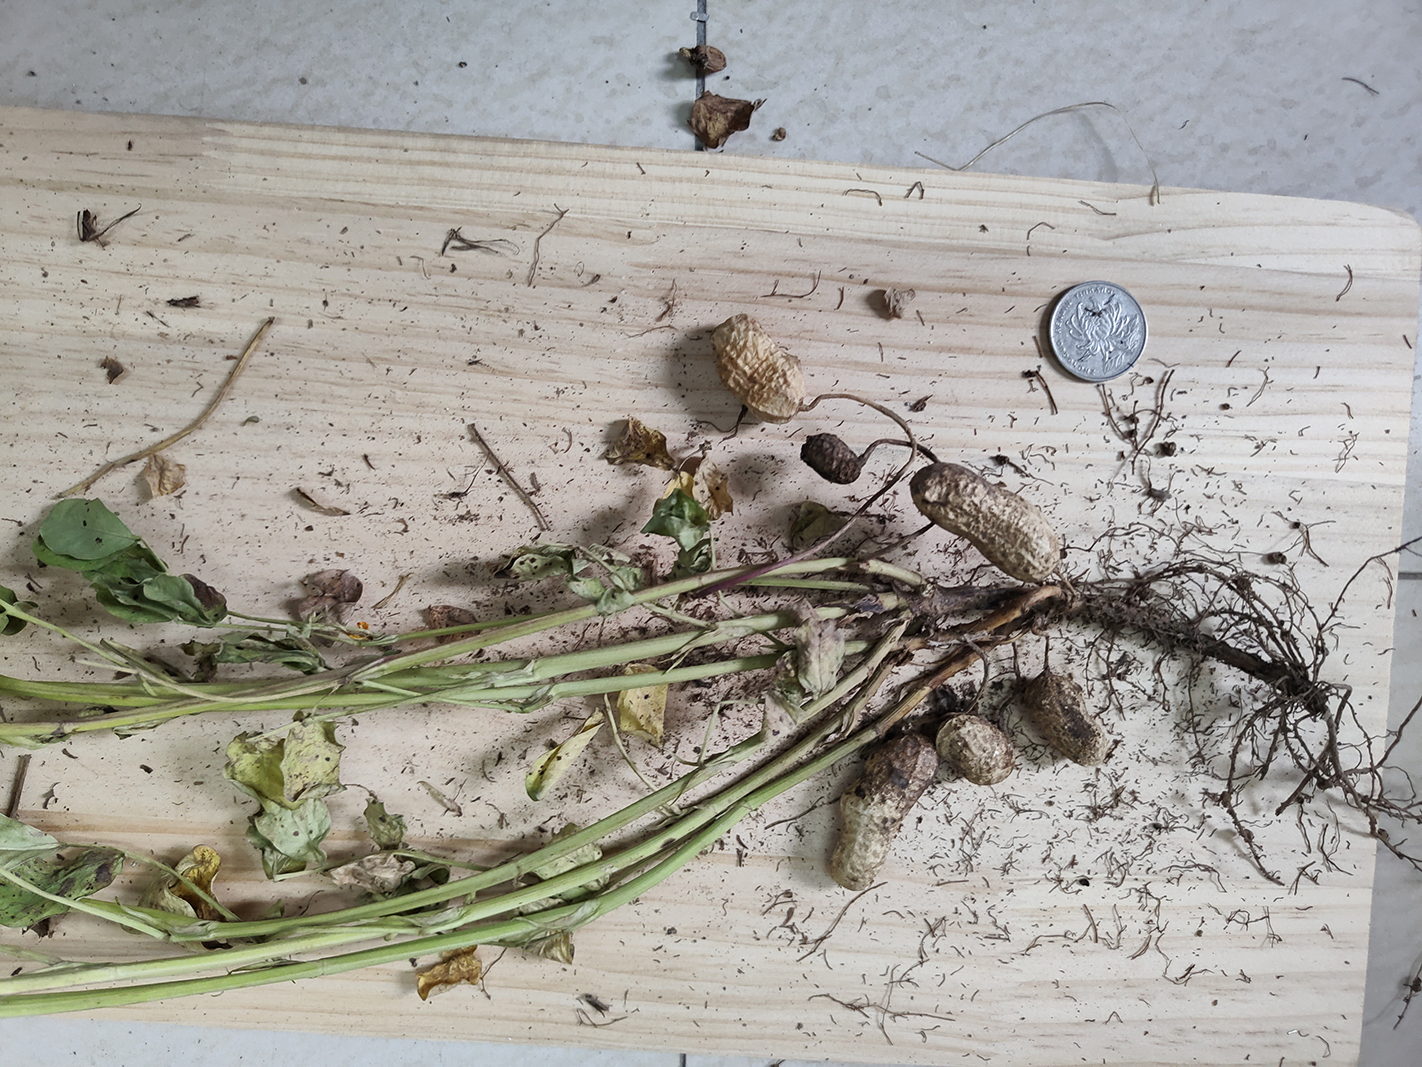h: (910, 462, 1061, 582), (828, 729, 935, 890), (710, 314, 807, 420), (938, 713, 1017, 785)
l: (1029, 674, 1106, 768), (801, 432, 861, 483)
